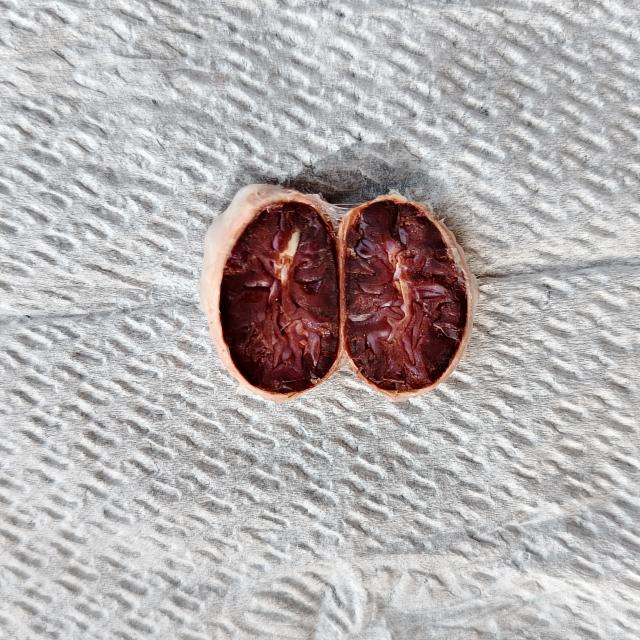Forastero: (223, 199, 343, 390), (345, 200, 459, 395)
